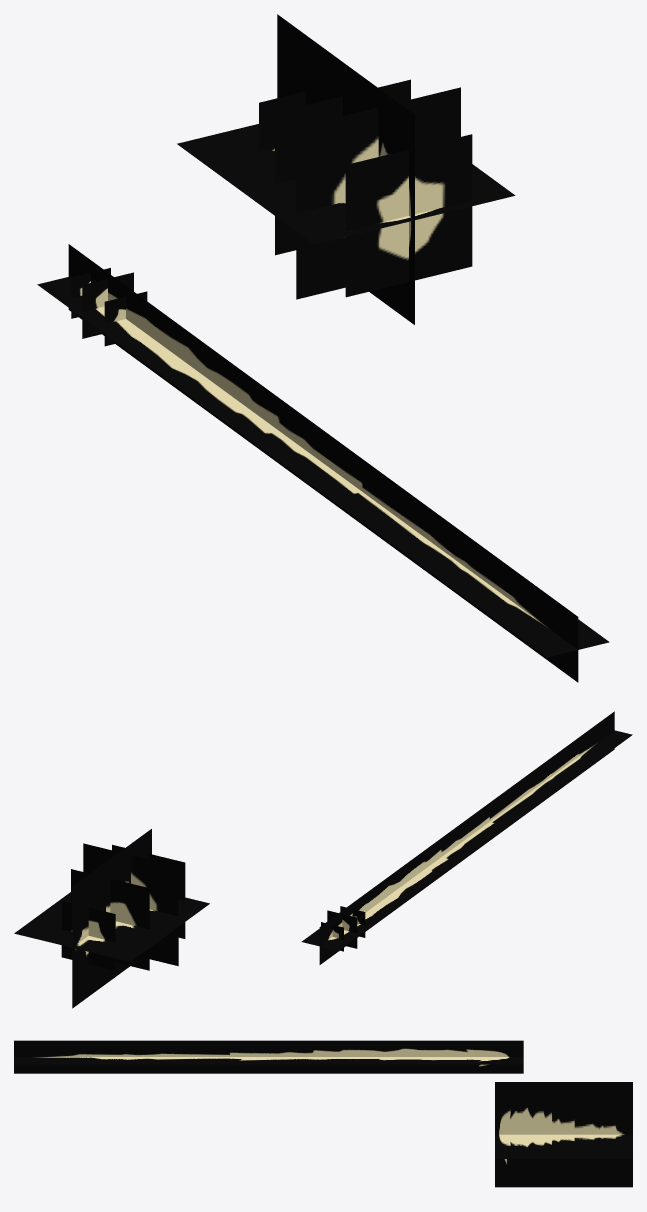
File: WeaponEffects.FBX
The picture shows the model from 3 angles, top to bottom: view 1: azimuth 30°, elevation 25°; view 2: azimuth 150°, elevation 25°; view 3: azimuth 270°, elevation 25°; orthographic projection. The views are drawn at different scales.
Parts seen in each view (by area): view 1: MuzzleFlash1, DefaultBullet; view 2: MuzzleFlash1, DefaultBullet; view 3: DefaultBullet, MuzzleFlash1.
Boxes of the visible parts, x1,y1,x2,y2 form: MuzzleFlash1: (177, 14, 515, 324); DefaultBullet: (37, 244, 609, 682); MuzzleFlash1: (14, 829, 209, 1008); DefaultBullet: (301, 711, 632, 964); DefaultBullet: (14, 1040, 523, 1073); MuzzleFlash1: (495, 1082, 632, 1187).
Size of the model in its own units: 1.42 by 0.633 by 3.37.
